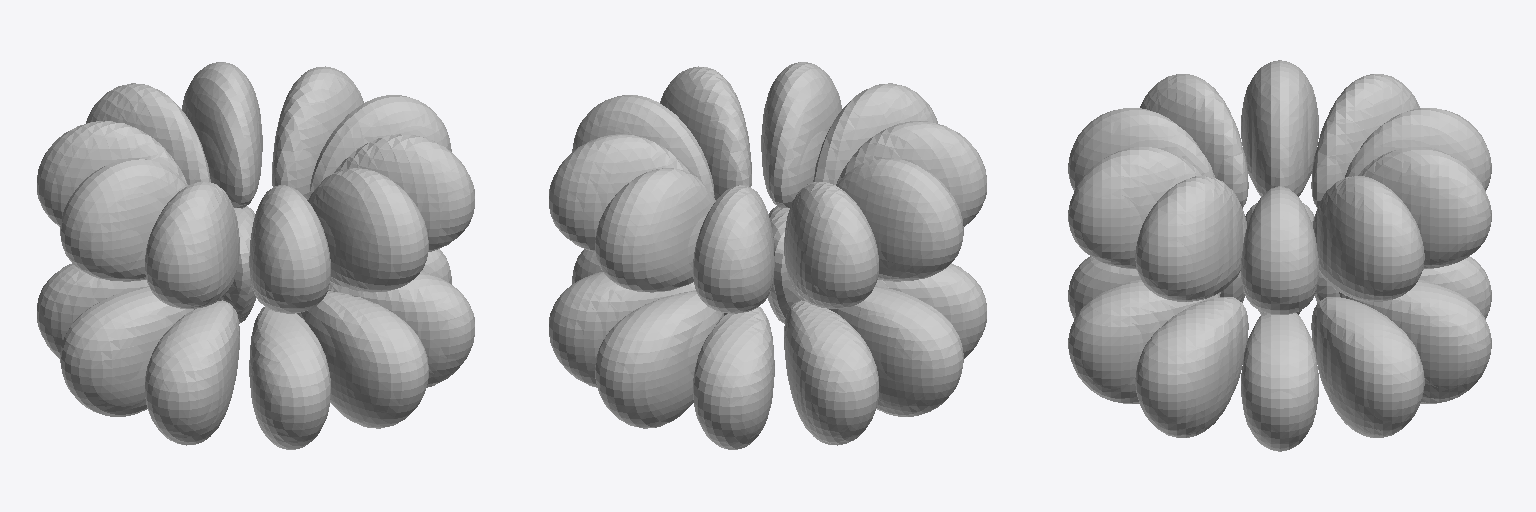
The model's file is orb_n=7_ l=6 _m=5.obj.
The picture shows the model from 3 angles: view 1: azimuth 30°, elevation 25°; view 2: azimuth 150°, elevation 25°; view 3: azimuth 270°, elevation 25°; orthographic projection.
Visible parts, largest first — view 1: orb_n=7__l=6__m=5; view 2: orb_n=7__l=6__m=5; view 3: orb_n=7__l=6__m=5.
Part boxes in pixels (bbox=[...]): orb_n=7__l=6__m=5: bbox=[37, 62, 474, 449]; orb_n=7__l=6__m=5: bbox=[549, 62, 986, 449]; orb_n=7__l=6__m=5: bbox=[1068, 60, 1491, 451].
Size of the model in its own units: 157 by 99.18 by 151.